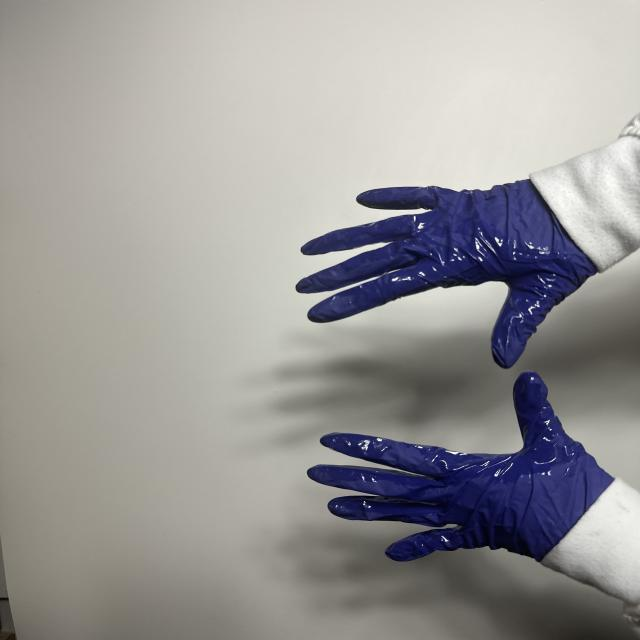gloves_contaminated: (308, 372, 613, 562), (296, 180, 597, 368)
